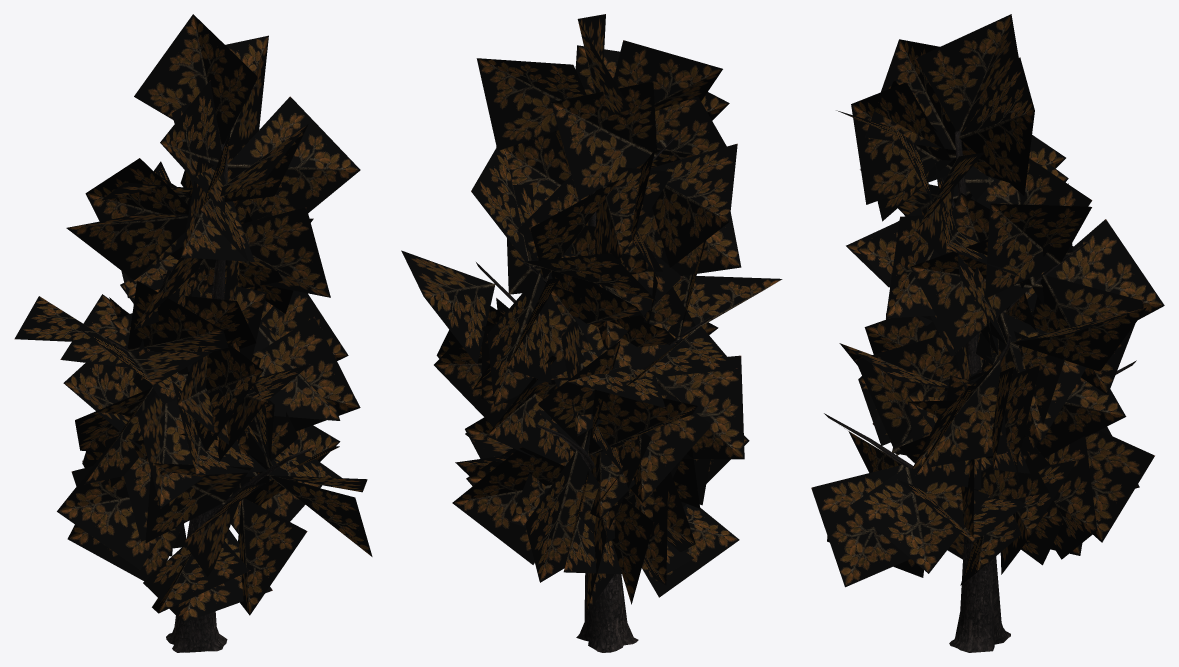
Rendered from tree_6.obj.
3 views of the same model, side by side, from view 1: azimuth 30°, elevation 25°; view 2: azimuth 150°, elevation 25°; view 3: azimuth 270°, elevation 25° (orthographic). The views are drawn at different scales.
Parts seen in each view (by area): view 1: tree_6; view 2: tree_6; view 3: tree_6.
Boxes of the visible parts, x1=… form: tree_6: x1=14, y1=14, x2=372, y2=652; tree_6: x1=401, y1=14, x2=782, y2=652; tree_6: x1=811, y1=14, x2=1164, y2=652.
Bounding box in the file's own units: 3.25 × 6.06 × 3.07.
